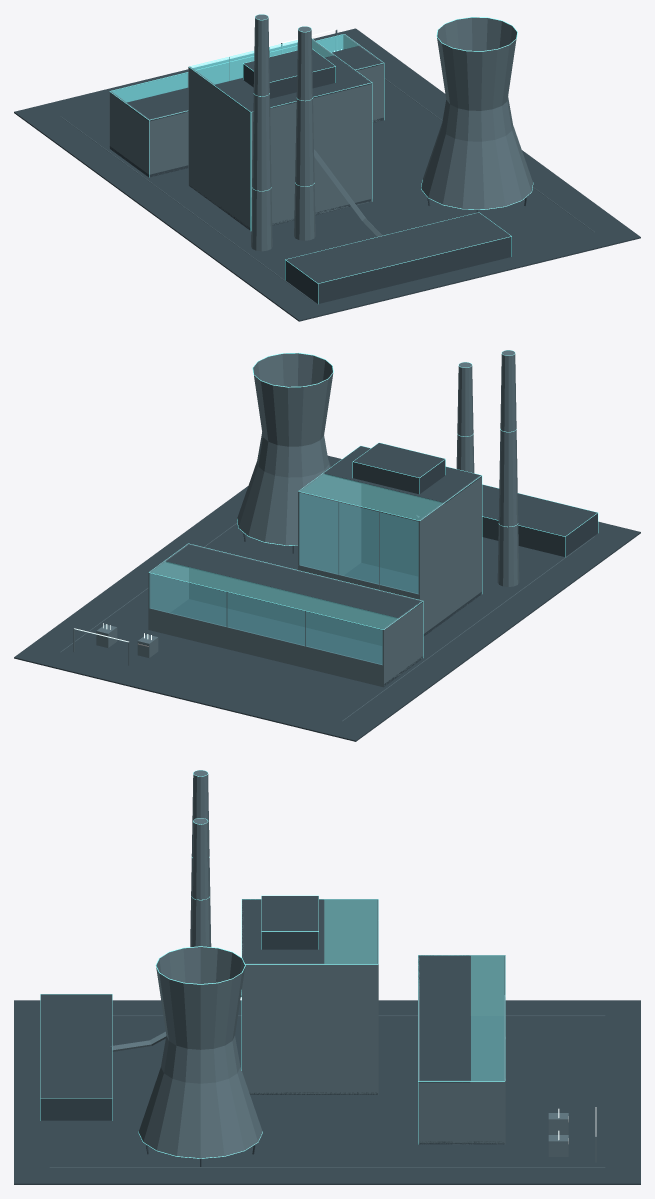
File: coal_plant_retiring_site.lod1.glb
3 views of the same model, one above another, from view 1: azimuth 30°, elevation 25°; view 2: azimuth 150°, elevation 25°; view 3: azimuth 270°, elevation 25° (orthographic). The views are drawn at different scales.
Parts seen in each view (by area): view 1: coal_plant_retiring_site_graphite.001, coal_plant_retiring_site_graphite_light.001, coal_plant_retiring_site_glass.001, coal_plant_retiring_site_edge.001; view 2: coal_plant_retiring_site_graphite.001, coal_plant_retiring_site_graphite_light.001, coal_plant_retiring_site_glass.001, coal_plant_retiring_site_edge.001; view 3: coal_plant_retiring_site_graphite.001, coal_plant_retiring_site_graphite_light.001, coal_plant_retiring_site_glass.001, coal_plant_retiring_site_edge.001.
Part boxes in pixels (bbox=[...]): coal_plant_retiring_site_graphite.001: bbox=[14, 28, 640, 321]; coal_plant_retiring_site_graphite_light.001: bbox=[60, 14, 594, 301]; coal_plant_retiring_site_glass.001: bbox=[111, 34, 358, 102]; coal_plant_retiring_site_edge.001: bbox=[109, 14, 533, 303]; coal_plant_retiring_site_graphite.001: bbox=[14, 443, 640, 741]; coal_plant_retiring_site_graphite_light.001: bbox=[60, 350, 594, 721]; coal_plant_retiring_site_glass.001: bbox=[149, 474, 442, 664]; coal_plant_retiring_site_edge.001: bbox=[149, 350, 598, 657]; coal_plant_retiring_site_graphite.001: bbox=[14, 896, 640, 1184]; coal_plant_retiring_site_graphite_light.001: bbox=[49, 770, 605, 1167]; coal_plant_retiring_site_glass.001: bbox=[324, 900, 504, 1080]; coal_plant_retiring_site_edge.001: bbox=[40, 770, 505, 1158].
Bounding box in the file's own units: 175 × 113 × 252.
